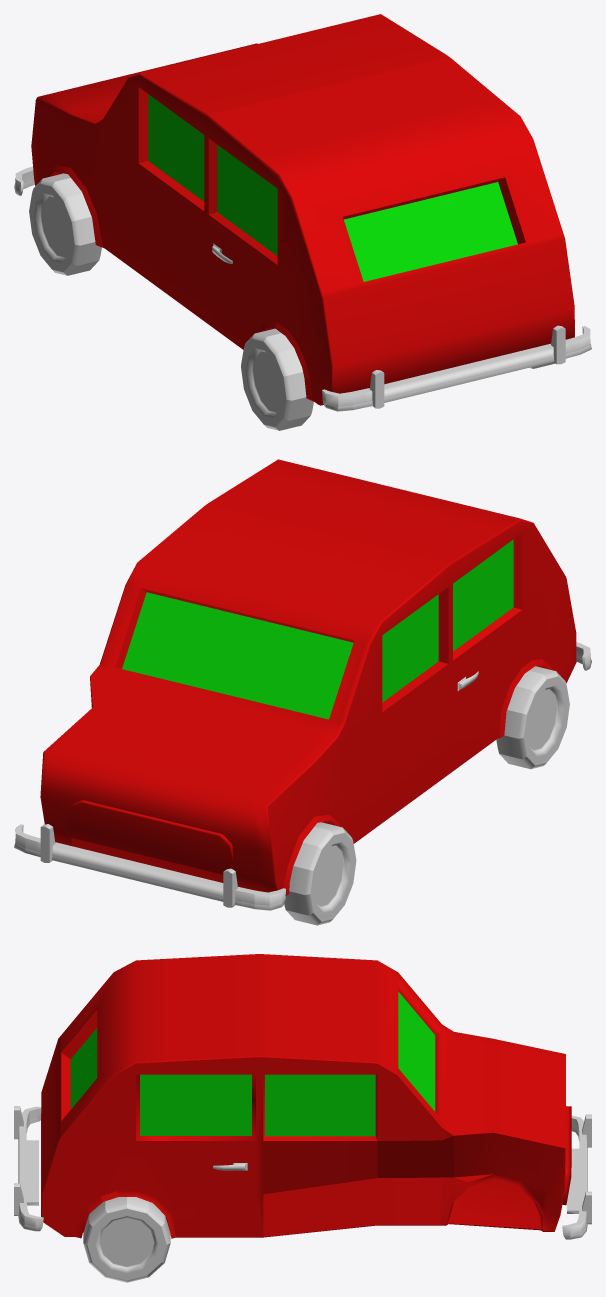
File: Car.fbx
The picture shows the model from 3 angles, top to bottom: view 1: azimuth 30°, elevation 25°; view 2: azimuth 150°, elevation 25°; view 3: azimuth 270°, elevation 25°; orthographic projection. The views are drawn at different scales.
Parts seen in each view (by area): view 1: pCube12, pCylinder70, pCylinder69, pCylinder68; view 2: pCube12, pCylinder17, pCylinder69, pCylinder68; view 3: pCube12, pCylinder67, pCylinder70, pCylinder17.
Part boxes in pixels (x1,y1,x2,y2): pCube12: [31, 14, 574, 405]; pCylinder70: [322, 325, 591, 411]; pCylinder69: [29, 173, 101, 275]; pCylinder68: [241, 328, 313, 430]; pCube12: [40, 459, 576, 895]; pCylinder17: [14, 824, 285, 910]; pCylinder69: [284, 822, 356, 925]; pCylinder68: [496, 666, 569, 769]; pCube12: [41, 954, 571, 1238]; pCylinder67: [83, 1197, 170, 1282]; pCylinder70: [14, 1106, 43, 1231]; pCylinder17: [562, 1114, 591, 1239].
Size of the model in its own units: 1.68 by 1.44 by 3.43.
